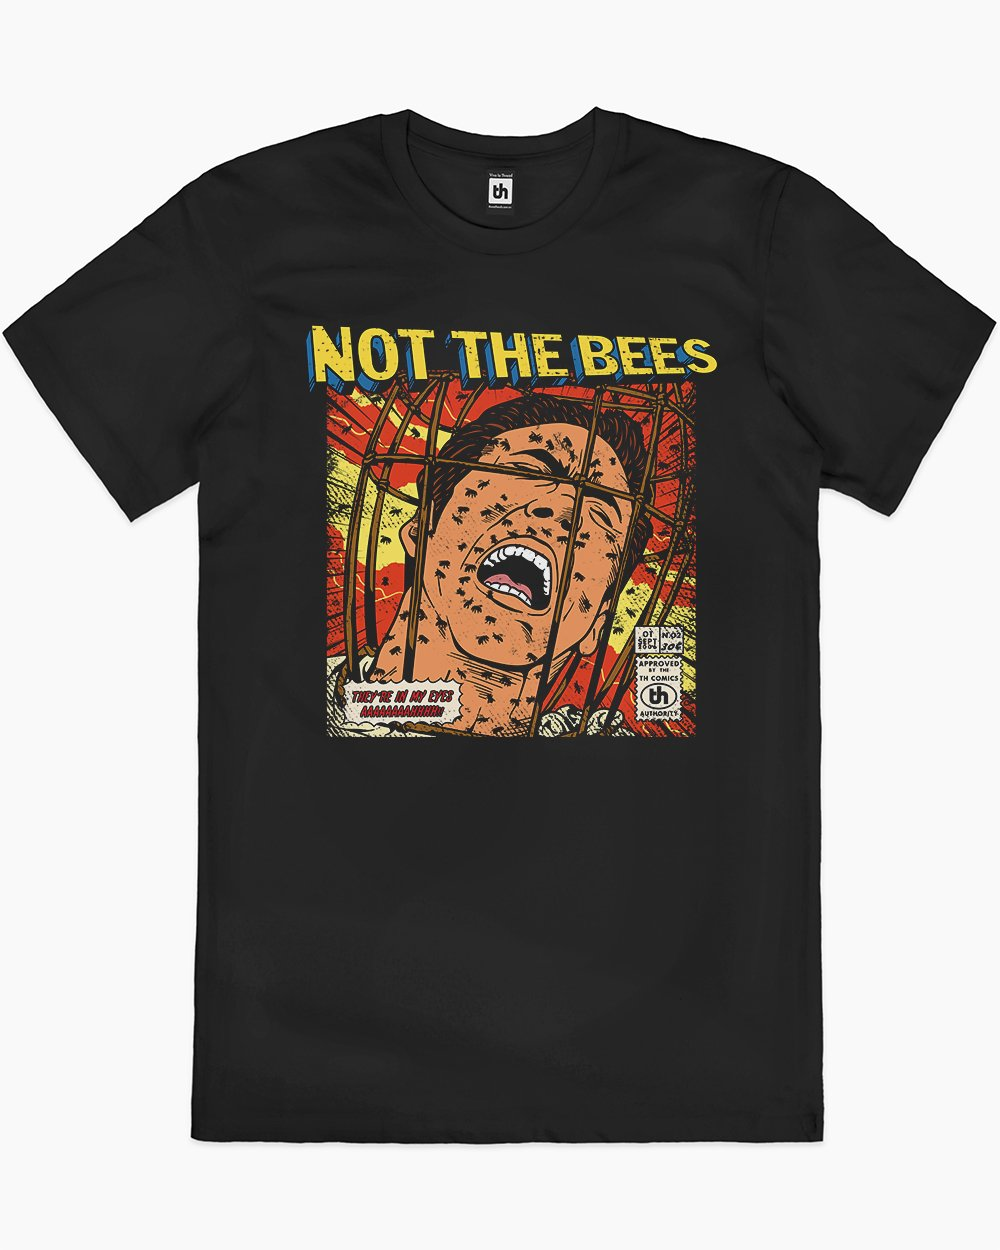design: (299, 317, 724, 744)
